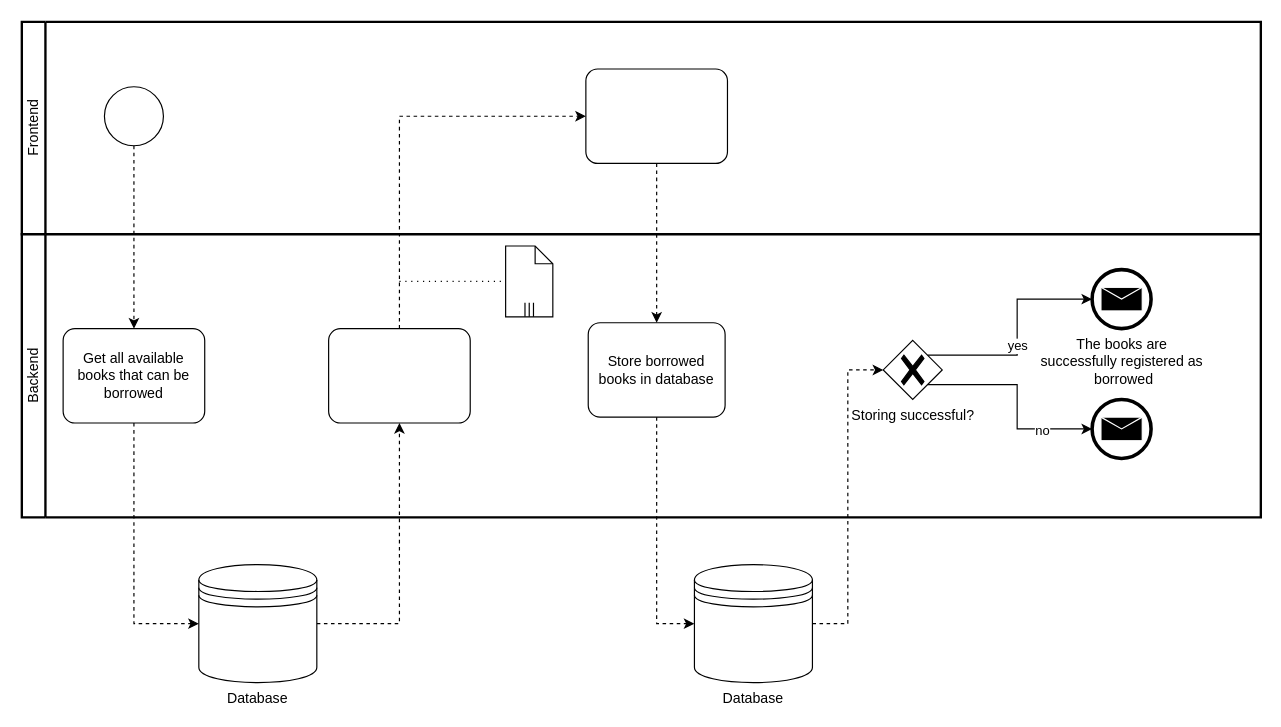
The diagram is 1281 pixels wide and 727 high, and some of its shapes have lost their labels. Each missing label, with the centre of its shape:
"Available books" goes at point (528, 281).
"Prepare available books" goes at point (398, 375).
"There was an error borrowing these books" goes at point (1121, 428).
"User selects the books to borrow" goes at point (656, 115).
